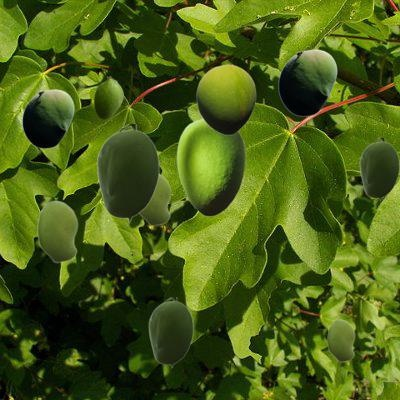green_mango: (176, 118, 245, 215), (96, 124, 158, 222), (196, 64, 255, 134), (278, 49, 336, 115), (148, 297, 192, 367), (22, 89, 73, 147), (37, 200, 77, 262), (359, 138, 398, 200), (139, 173, 170, 225), (94, 76, 122, 118), (327, 319, 354, 361)
